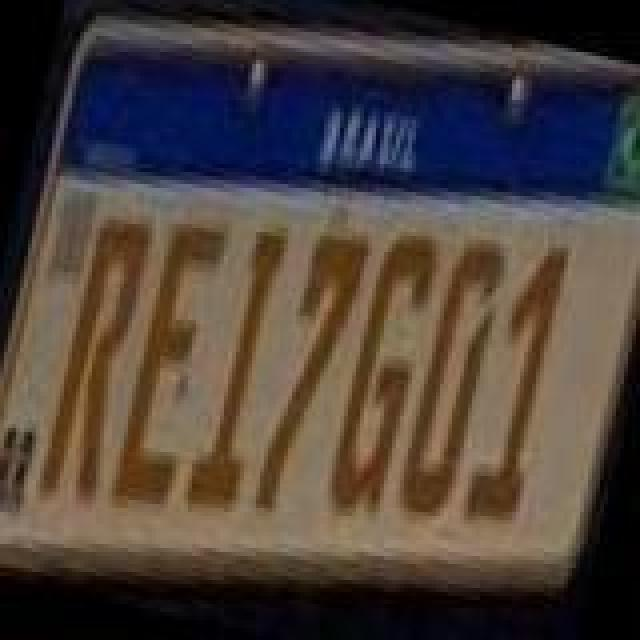1: (462, 236, 578, 532)
7: (252, 228, 372, 524)
D: (392, 234, 512, 526)
E: (106, 218, 230, 518)
G: (322, 226, 446, 526)
I: (182, 220, 298, 516)
R: (34, 208, 158, 512)
